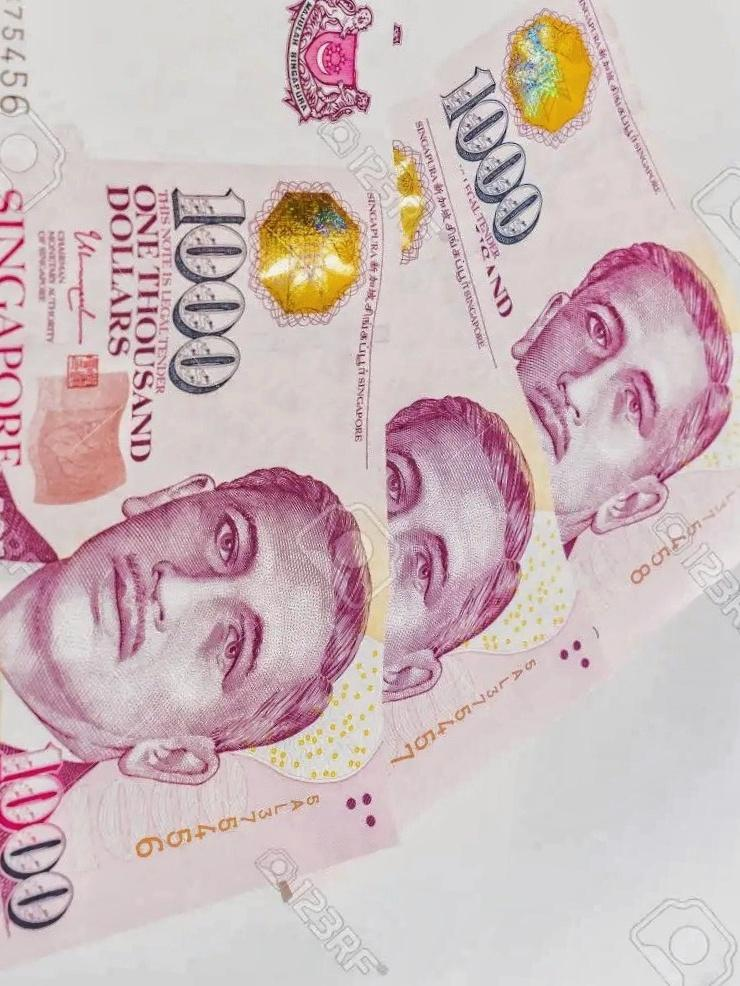1000SingaporeDollar: (0, 0, 376, 932)
